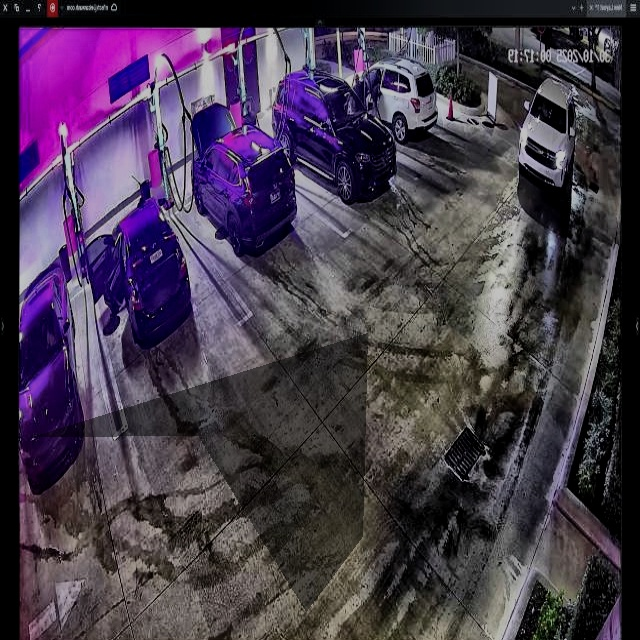Car: (190, 100, 296, 254), (84, 193, 190, 344), (275, 75, 395, 199)
